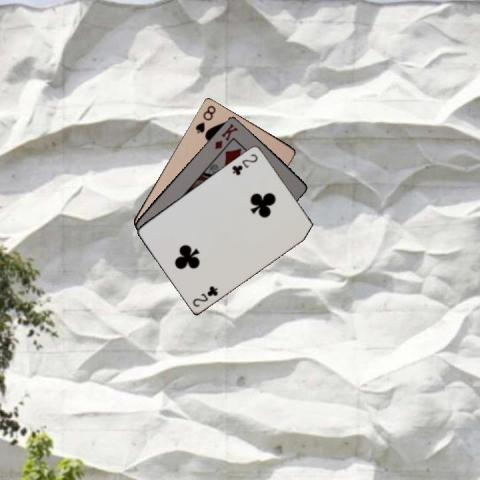2c: (230, 150, 260, 176), (190, 283, 220, 308)
8s: (192, 102, 217, 135)
Kd: (212, 120, 240, 151)
